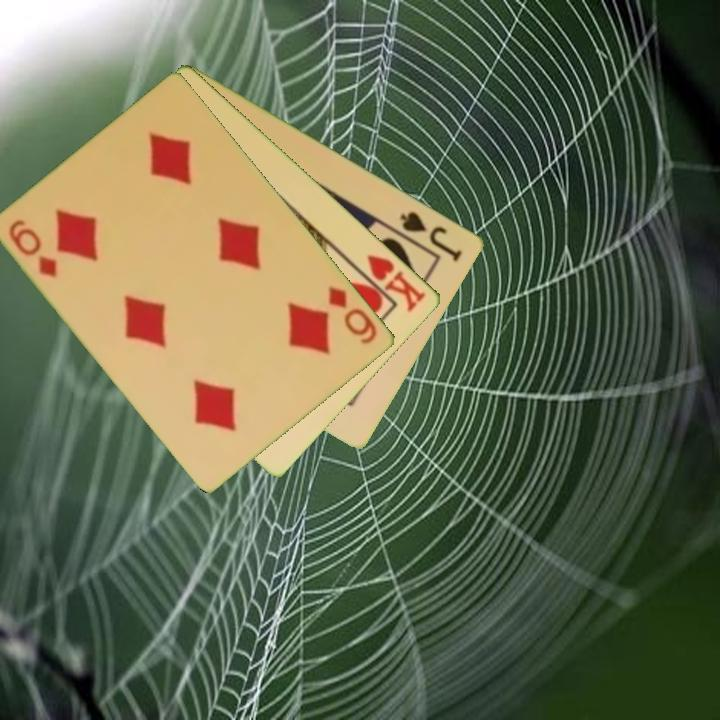6d: (6, 215, 61, 281), (325, 283, 381, 347)
Js: (397, 208, 466, 264)
Kh: (351, 251, 429, 315)
